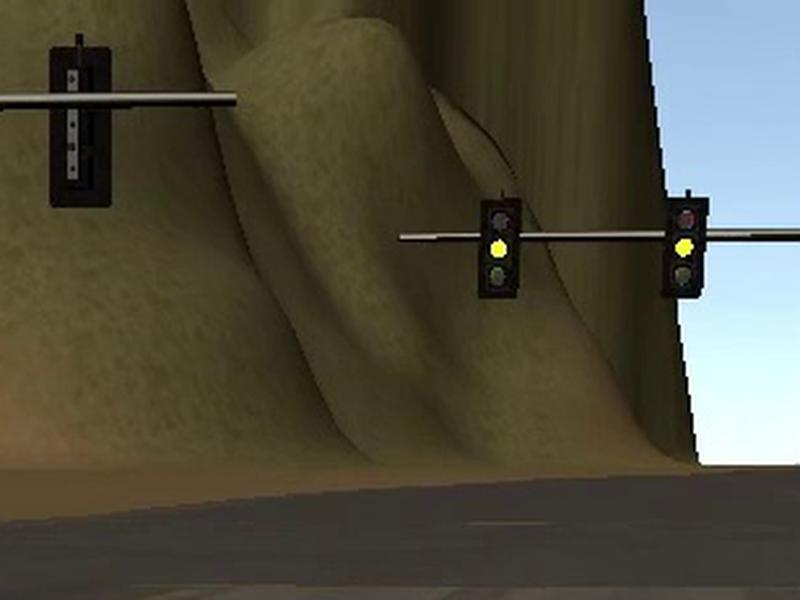Yellow: (659, 197, 708, 297), (476, 198, 522, 300)
